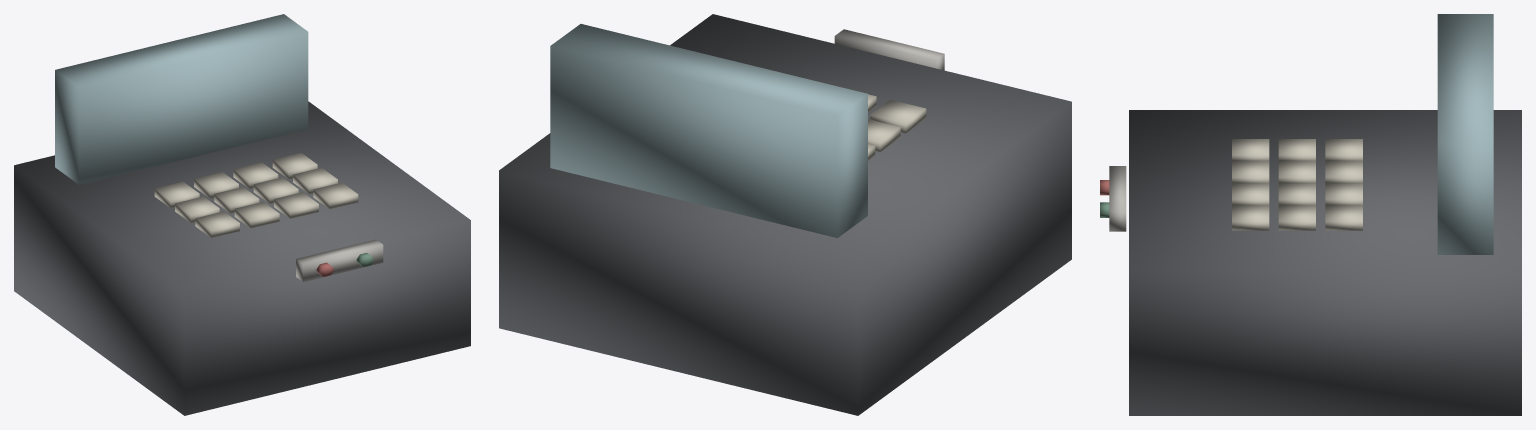
File: cash_register__squat.glb
3 renders of one model, left to right at view 1: azimuth 30°, elevation 25°; view 2: azimuth 150°, elevation 25°; view 3: azimuth 270°, elevation 25°, orthographic. The views are drawn at different scales.
Visible parts, largest first — view 1: world; view 2: world; view 3: world.
Part boxes in pixels (<box>): world: <box>14,14,470,415</box>; world: <box>499,14,1071,415</box>; world: <box>1100,14,1521,415</box>.
Size of the model in its own units: 0.44 by 0.3276 by 0.4871.
